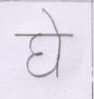e_matra: (42, 8, 64, 33)
